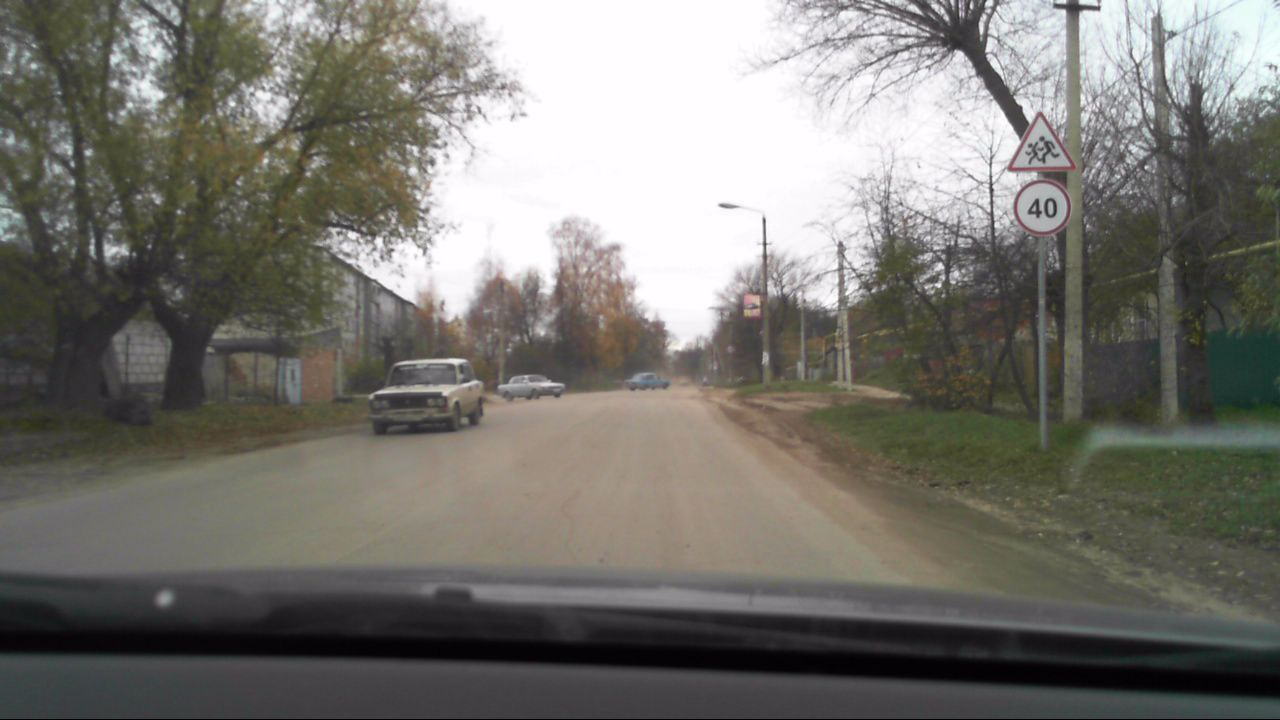speed_warning_40: (1012, 176, 1074, 234)
